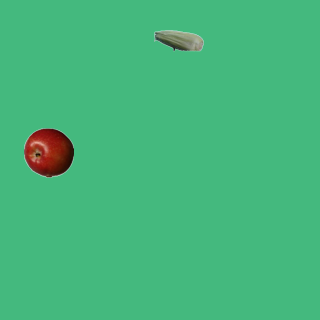Apple Braeburn: (23, 127, 73, 177)
Corn Husk: (153, 15, 203, 65)
